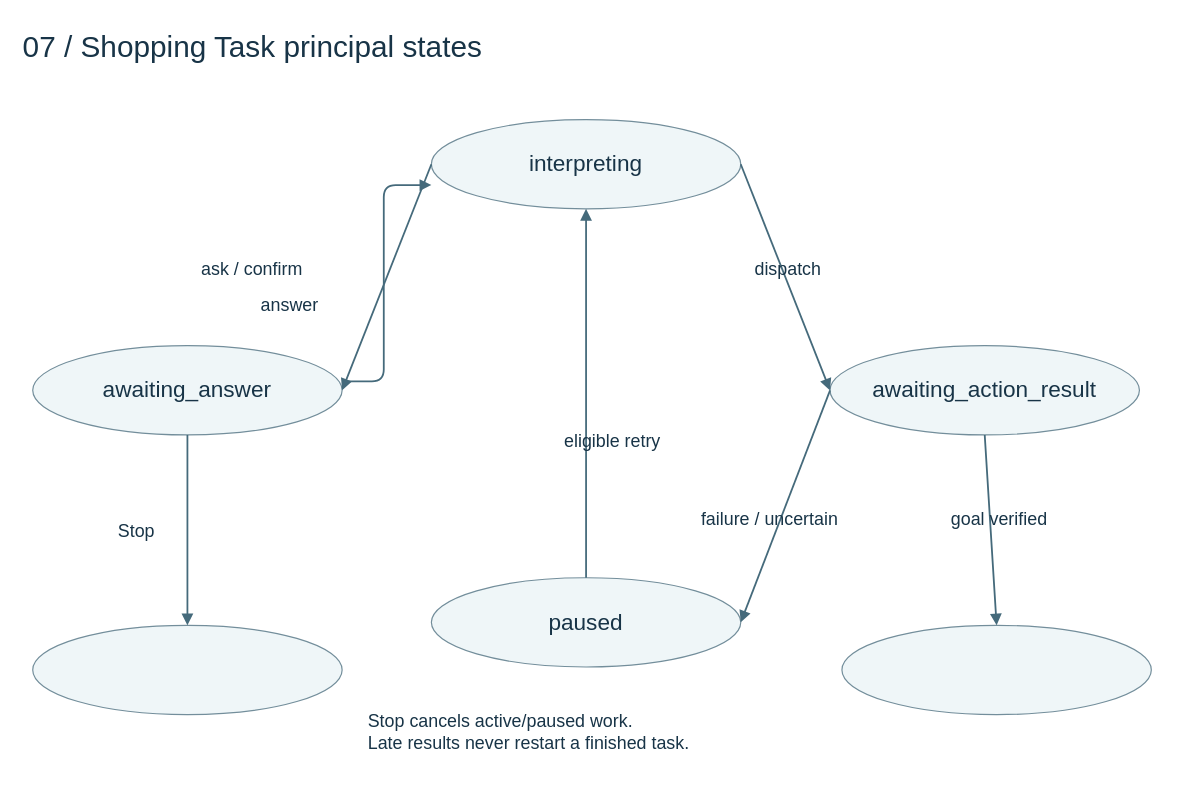
The diagram is 1183 pixels wide and 788 high, and some of its shapes have lost their labels. The centre of each missing label's shape, as x and y in pixels:
cancelled / Stop: the point at 187,669
completed: the point at 996,669
